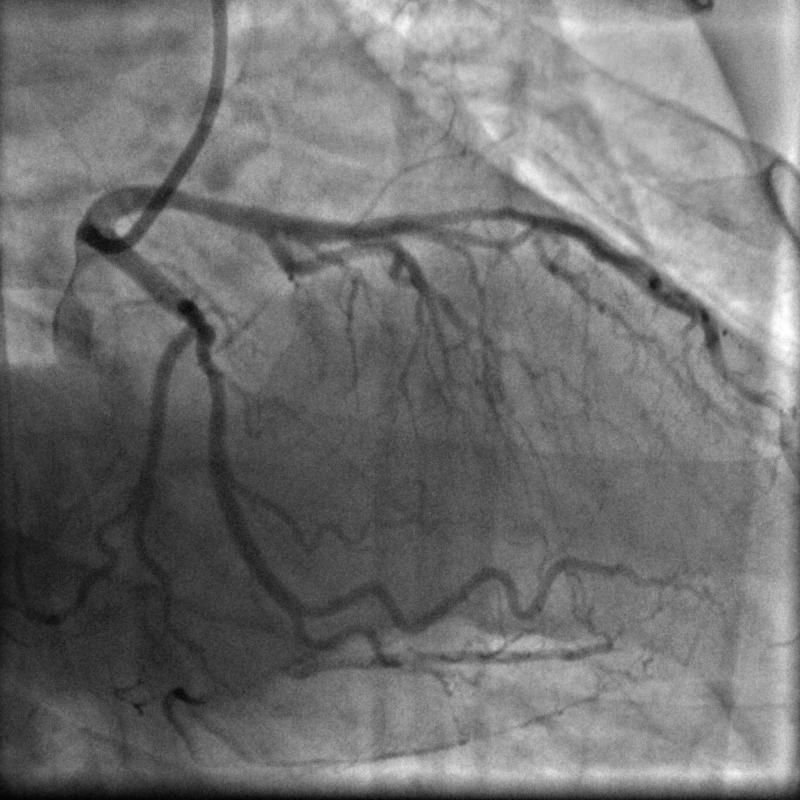Stenosis: (189, 317, 224, 388)
